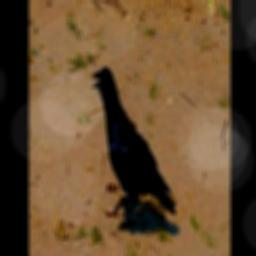Crow: (91, 65, 175, 230)
